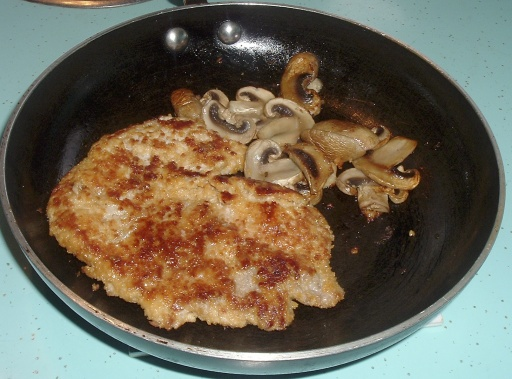background: (35, 28, 336, 195)
